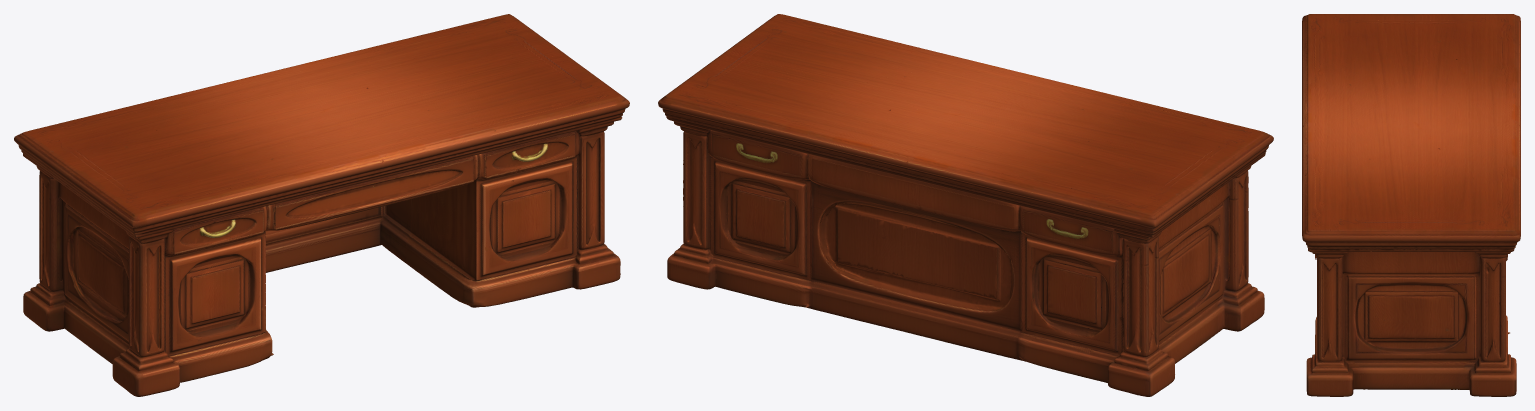
File: Lawyer Desk.glb
3 renders of one model, left to right at view 1: azimuth 30°, elevation 25°; view 2: azimuth 150°, elevation 25°; view 3: azimuth 270°, elevation 25°, orthographic. The views are drawn at different scales.
Size of the model in its own units: 1.9 by 0.6704 by 0.7904.
1 material, 1 textured.
